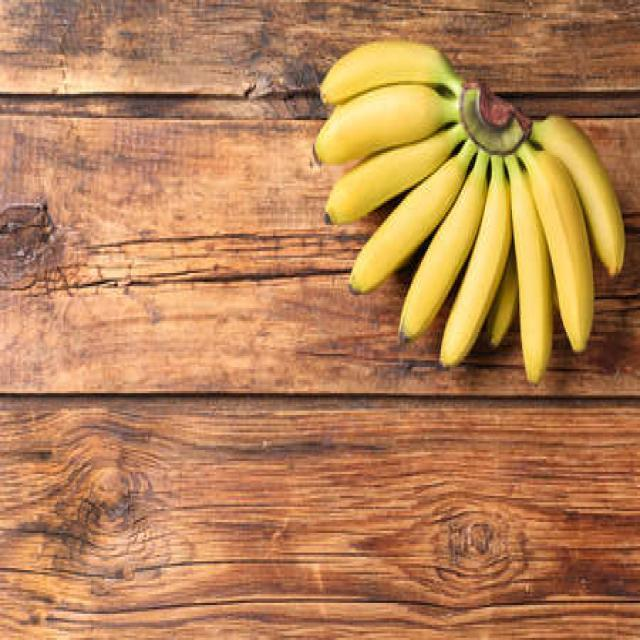Banana: (310, 37, 632, 394)
